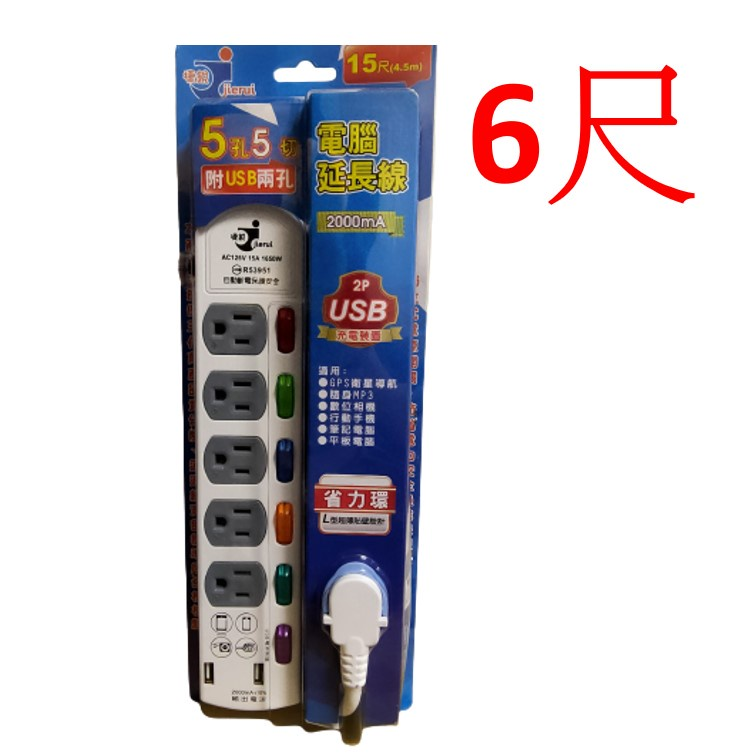socket: (193, 204, 304, 715)
